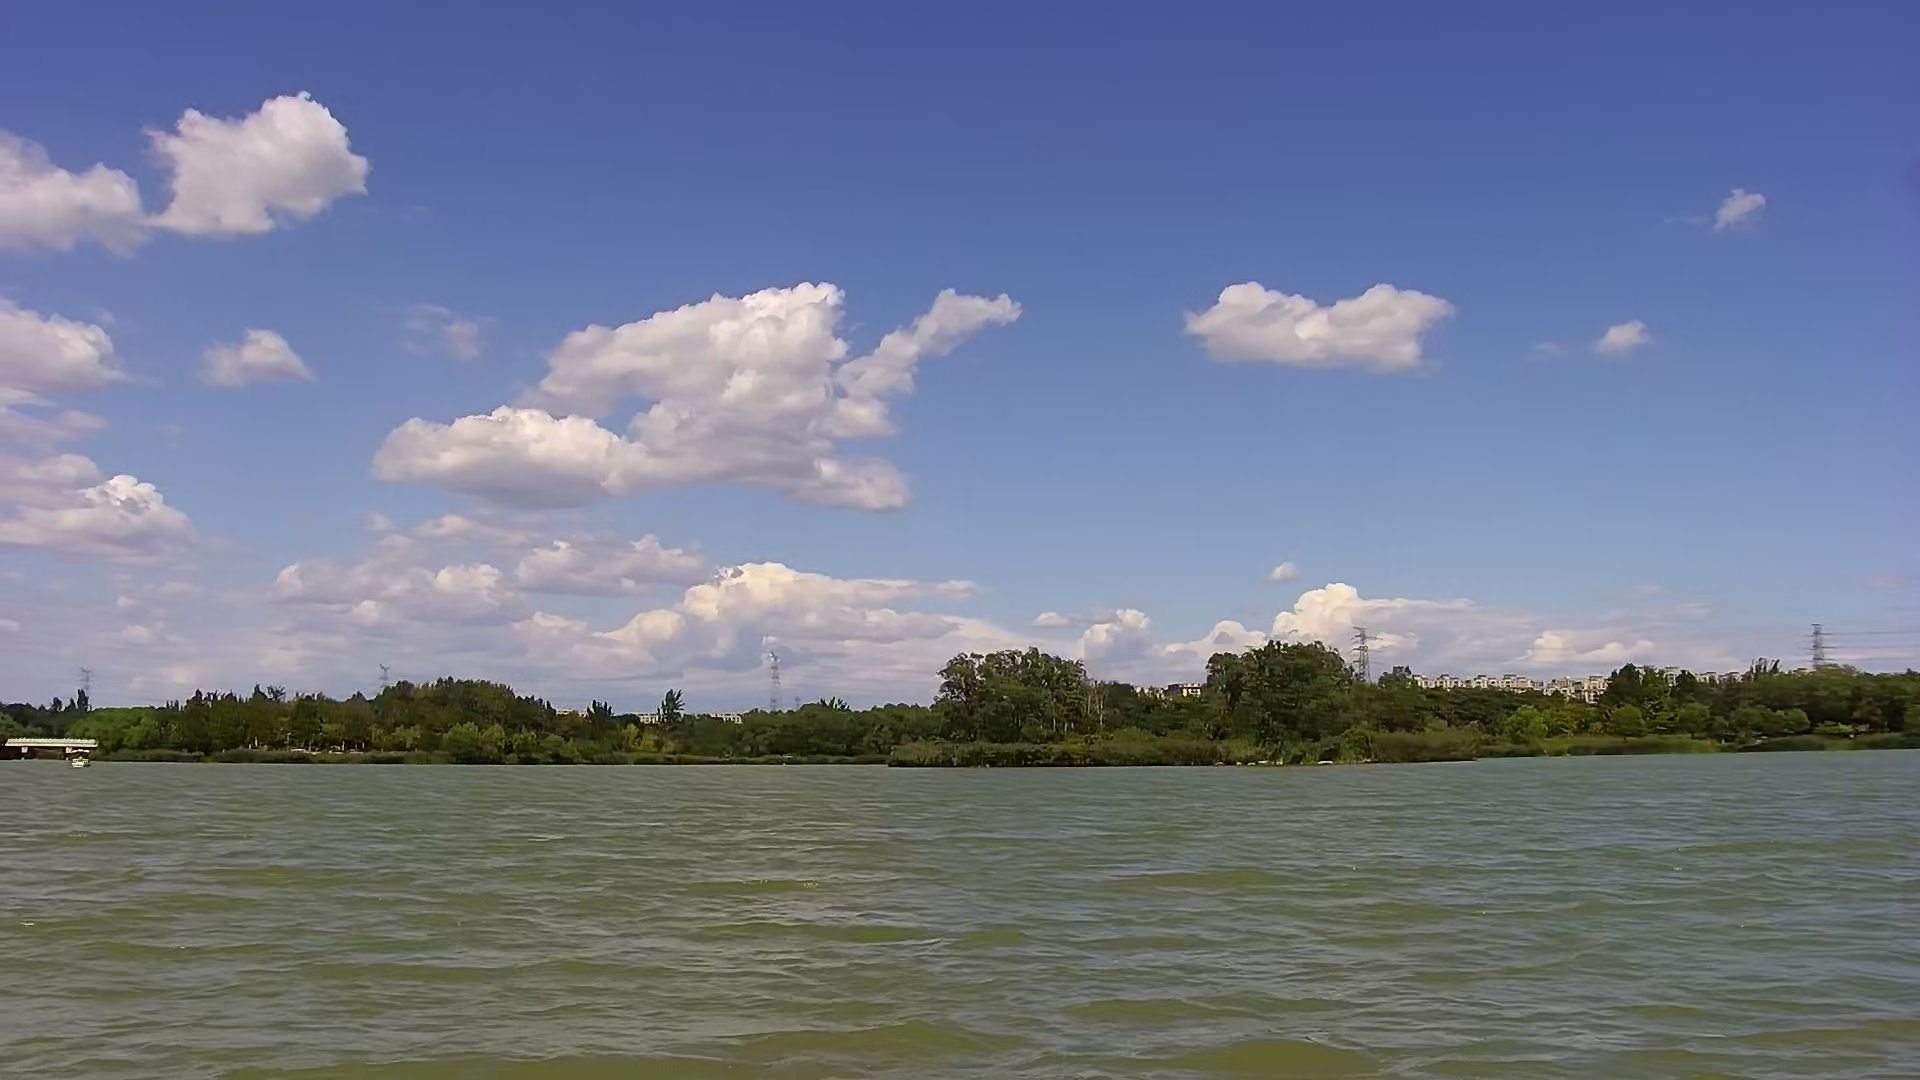boat: (61, 748, 105, 774)
bridge: (5, 728, 99, 760)
